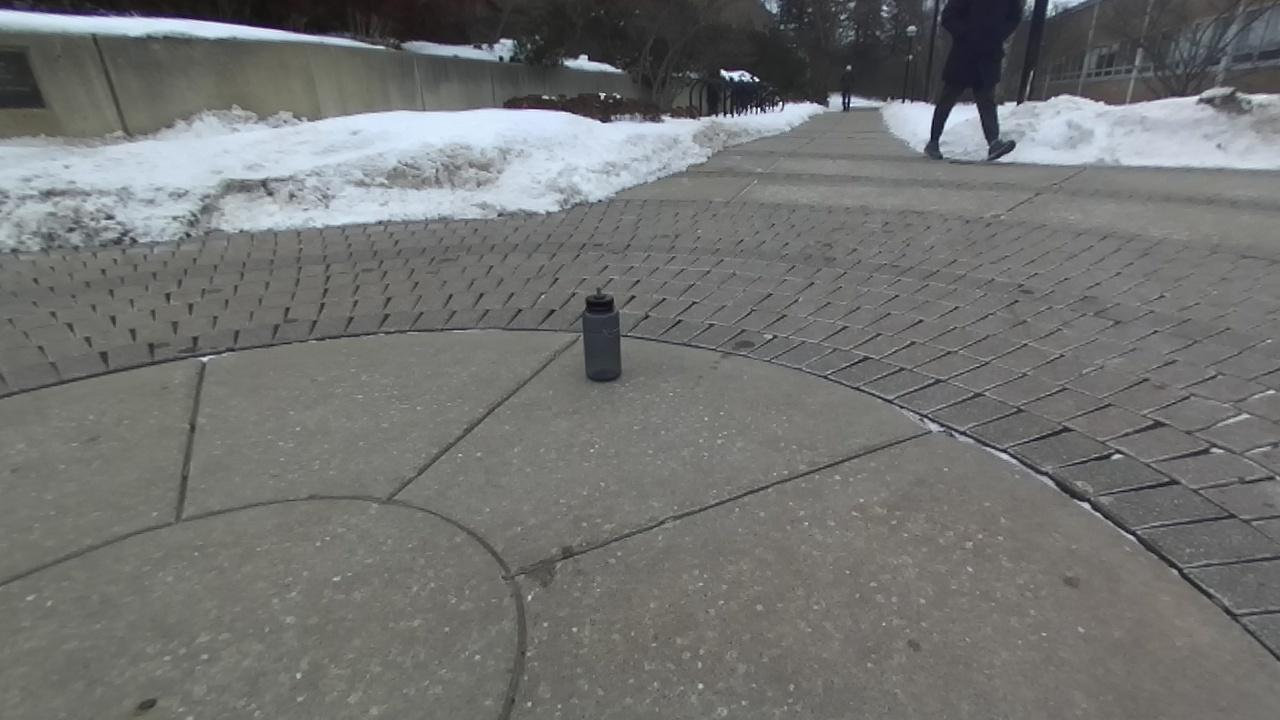bottle: (581, 287, 621, 381)
